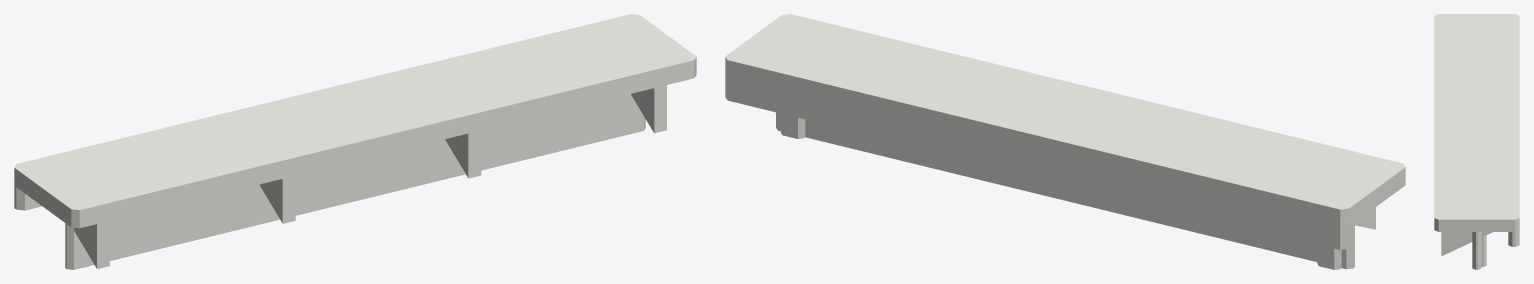
File: SM_LPI_Open_Sill_01.fbx
3 renders of one model, left to right at view 1: azimuth 30°, elevation 25°; view 2: azimuth 150°, elevation 25°; view 3: azimuth 270°, elevation 25°, orthographic. The views are drawn at different scales.
Parts seen in each view (by area): view 1: SM_LPI_Open_Sill_01; view 2: SM_LPI_Open_Sill_01; view 3: SM_LPI_Open_Sill_01.
Boxes of the visible parts, x1=… form: SM_LPI_Open_Sill_01: x1=14, y1=14, x2=696, y2=269; SM_LPI_Open_Sill_01: x1=725, y1=14, x2=1405, y2=269; SM_LPI_Open_Sill_01: x1=1434, y1=14, x2=1519, y2=269.
Bounding box in the file's own units: 1.37 × 0.18 × 0.24.
